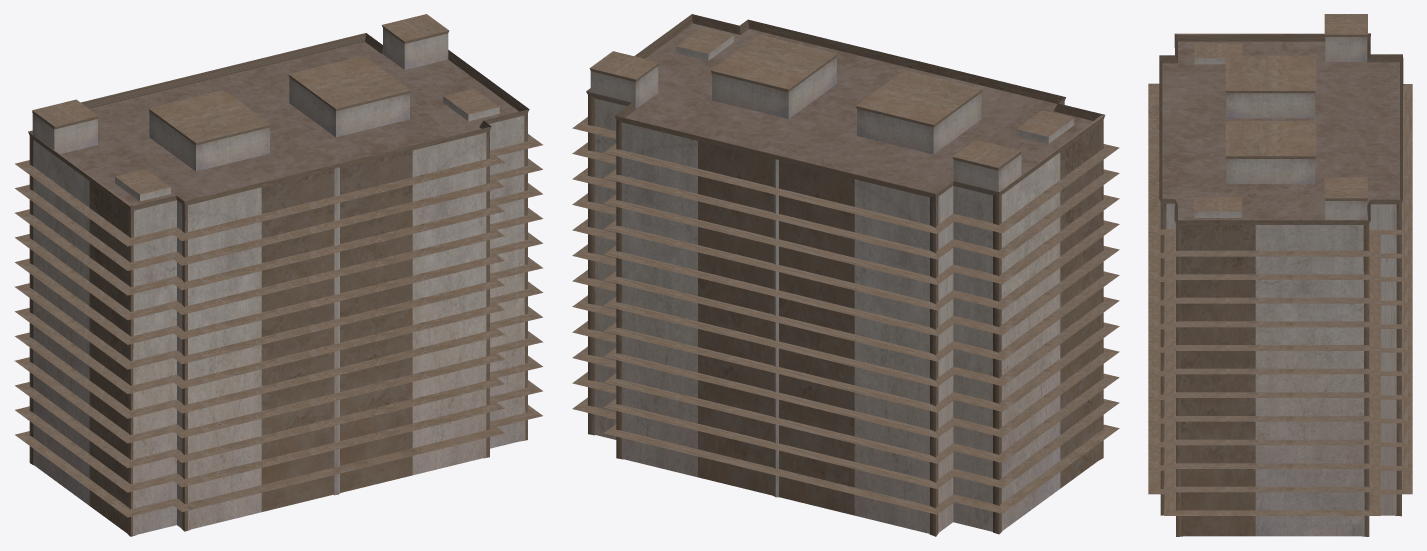
Rendered from ORB_5_Combi_12_Detail_3.fbx.
3 renders of one model, left to right at view 1: azimuth 30°, elevation 25°; view 2: azimuth 150°, elevation 25°; view 3: azimuth 270°, elevation 25°, orthographic. The views are drawn at different scales.
Visible parts, largest first — view 1: ORB_5_Combi_12_Detail_3; view 2: ORB_5_Combi_12_Detail_3; view 3: ORB_5_Combi_12_Detail_3.
Part boxes in pixels (x1,y1,x2,y2): ORB_5_Combi_12_Detail_3: [14, 14, 543, 536]; ORB_5_Combi_12_Detail_3: [572, 14, 1119, 536]; ORB_5_Combi_12_Detail_3: [1148, 14, 1412, 536].
Bounding box in the file's own units: 4663 × 3783 × 2676.
